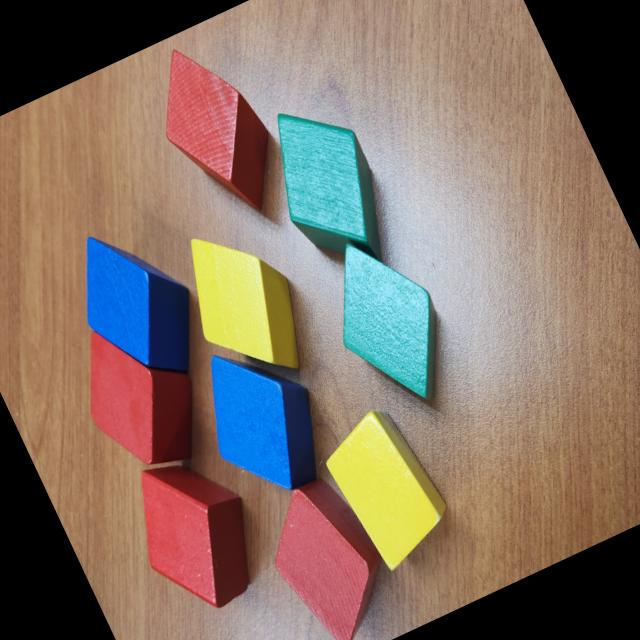blue: (55, 208, 222, 403), (179, 324, 346, 515)
green: (307, 221, 472, 425), (249, 86, 410, 290)
red: (136, 28, 308, 250), (113, 437, 280, 627), (59, 302, 222, 488), (248, 465, 415, 640)
yellow: (165, 210, 325, 402), (312, 400, 460, 580)
